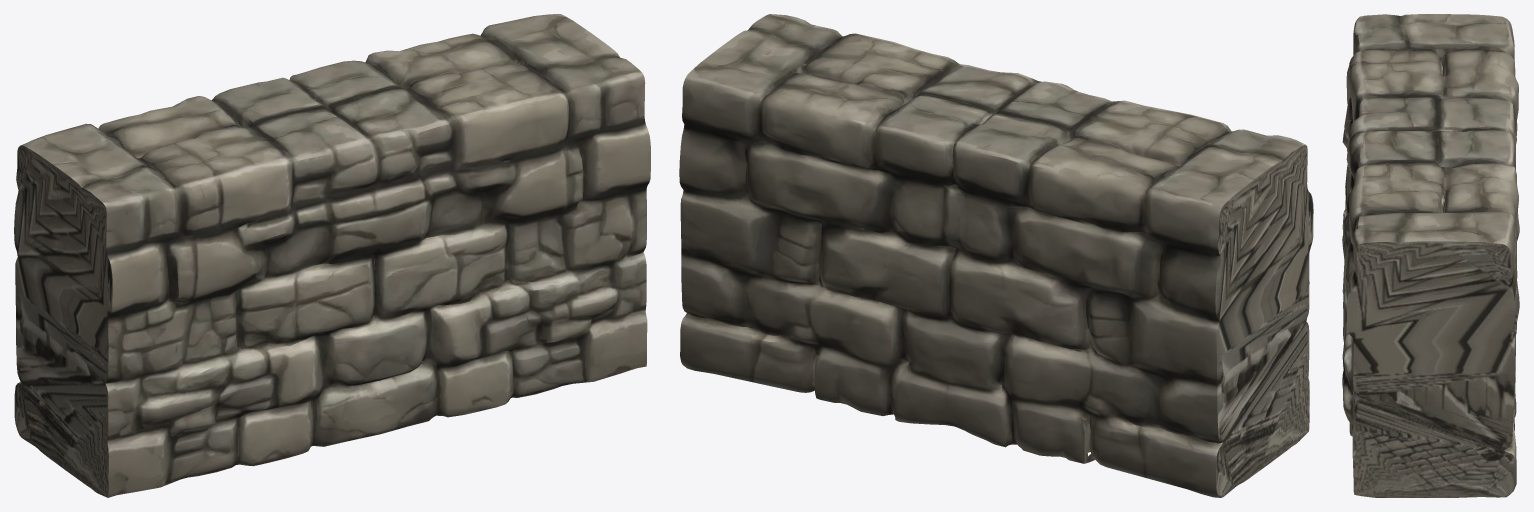
File: WallStone.glb
3 views of the same model, side by side, from view 1: azimuth 30°, elevation 25°; view 2: azimuth 150°, elevation 25°; view 3: azimuth 270°, elevation 25° (orthographic). The views are drawn at different scales.
Visible parts, largest first — view 1: WallStone; view 2: WallStone; view 3: WallStone.
Boxes of the visible parts, <box> form: WallStone: <box>14,14,650,497</box>; WallStone: <box>679,14,1313,497</box>; WallStone: <box>1342,14,1519,497</box>.
Size of the model in its own units: 2.27 by 1.2 by 0.7489.
1 material, 1 textured.
